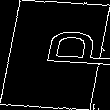P_W: (6, 34, 104, 76)
